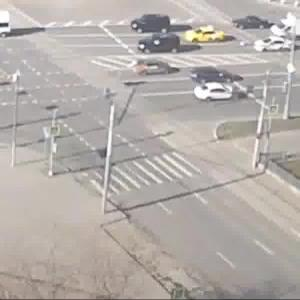car: (130, 14, 179, 36), (137, 59, 187, 80), (185, 27, 233, 46), (138, 36, 188, 54), (197, 82, 240, 102), (251, 38, 300, 54), (233, 14, 271, 33), (189, 70, 240, 81)
